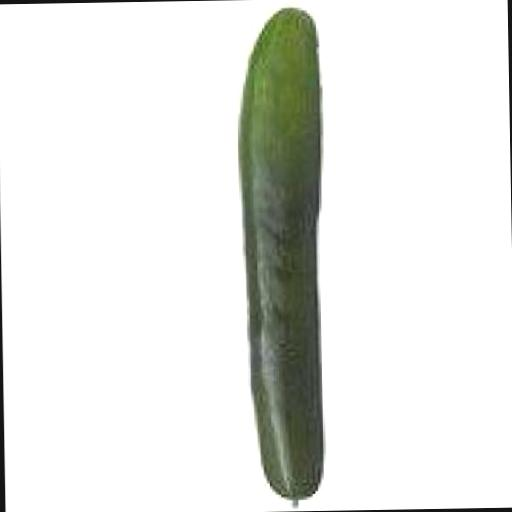biodegradable: (232, 2, 326, 504)
